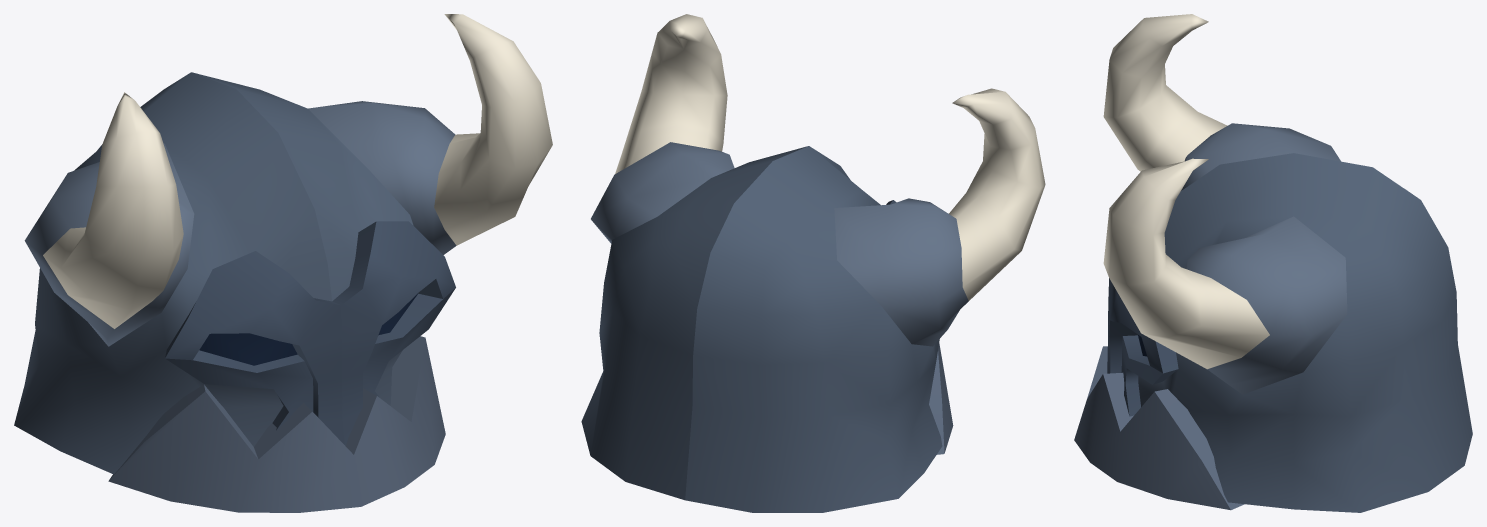
Rendered from Head_8.fbx.
3 views of the same model, side by side, from view 1: azimuth 30°, elevation 25°; view 2: azimuth 150°, elevation 25°; view 3: azimuth 270°, elevation 25° (orthographic). The views are drawn at different scales.
Visible parts, largest first — view 1: Head_8; view 2: Head_8; view 3: Head_8.
Boxes of the visible parts, box(x1,y1,x2,y2) form: Head_8: box(14, 14, 552, 512); Head_8: box(581, 14, 1045, 512); Head_8: box(1074, 14, 1472, 512).
Bounding box in the file's own units: 90.3 × 74.9 × 76.52.
